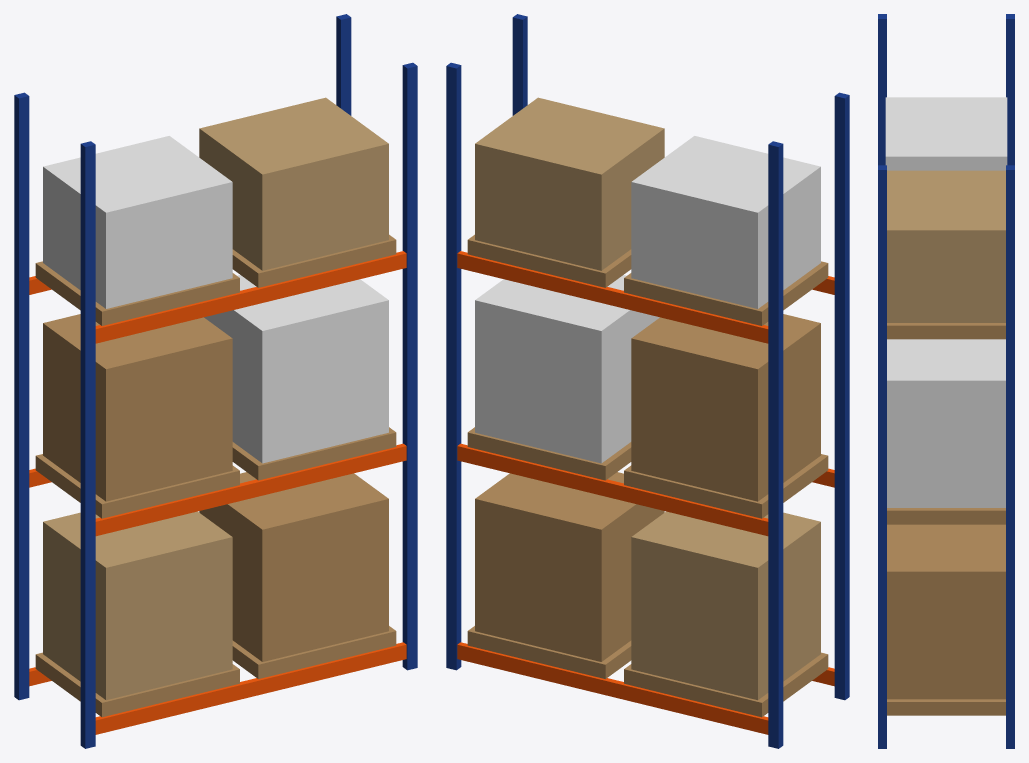
File: retail.store.bulk_rack.glb
3 views of the same model, side by side, from view 1: azimuth 30°, elevation 25°; view 2: azimuth 150°, elevation 25°; view 3: azimuth 270°, elevation 25° (orthographic). The views are drawn at different scales.
Visible parts, largest first — view 1: stock__softwood, stock__plywood, stock__plastic_white, frame__plastic_blue, frame__hivis_orange; view 2: stock__softwood, stock__plywood, stock__plastic_white, frame__plastic_blue, frame__hivis_orange; view 3: stock__plastic_white, stock__softwood, stock__plywood, frame__plastic_blue.
Part boxes in pixels (left/top/right/bottom): stock__softwood: left=35, top=234, right=396, bottom=717; stock__plywood: left=43, top=97, right=388, bottom=700; stock__plastic_white: left=43, top=136, right=388, bottom=463; frame__plastic_blue: left=14, top=14, right=417, bottom=748; frame__hivis_orange: left=29, top=251, right=406, bottom=734; stock__softwood: left=467, top=234, right=828, bottom=717; stock__plywood: left=475, top=97, right=820, bottom=700; stock__plastic_white: left=475, top=136, right=820, bottom=463; frame__plastic_blue: left=446, top=14, right=849, bottom=748; frame__hivis_orange: left=457, top=251, right=834, bottom=734; stock__plastic_white: left=885, top=97, right=1007, bottom=507; stock__softwood: left=887, top=323, right=1005, bottom=715; stock__plywood: left=887, top=170, right=1005, bottom=322; frame__plastic_blue: left=878, top=14, right=1014, bottom=748.
Size of the model in its own units: 2.89 by 5 by 1.07.
